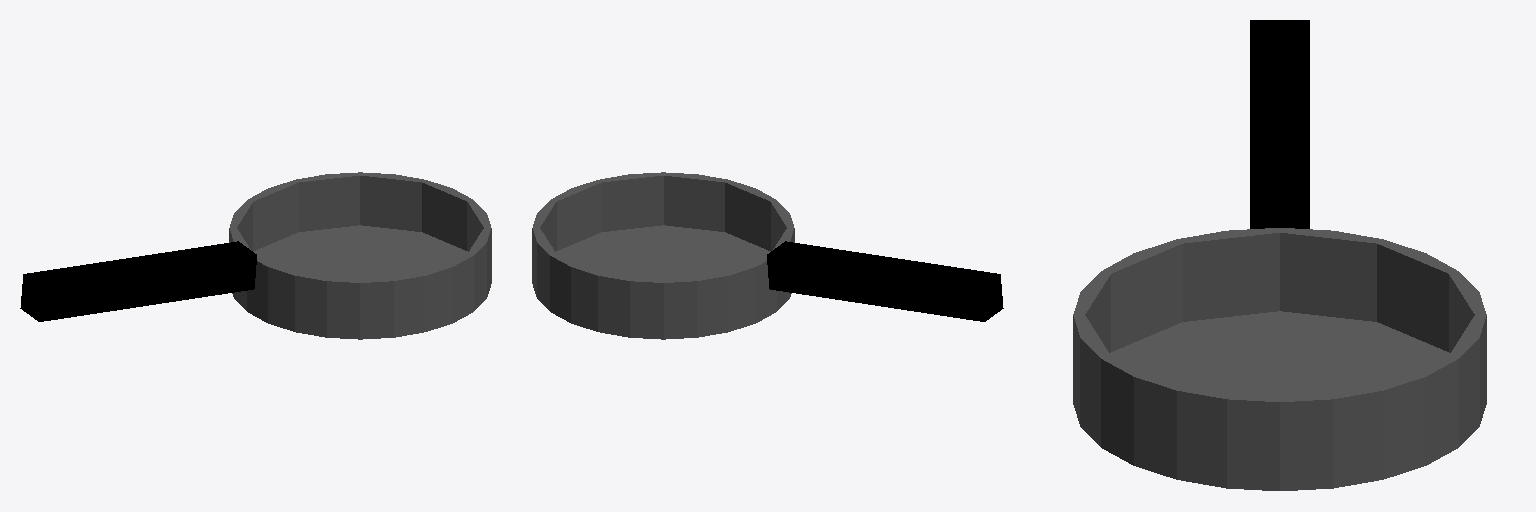
The robot description file, URDF, robot "frying-pan_static":
<?xml version="1.0"?>
<robot name="frying-pan_static"
       xmlns:xi="http://www.w3.org/2001/XInclude"
       >
  <gazebo>
    <static>true</static>
  </gazebo>
  <link name="nil_link">
    <visual>
      <origin xyz="0 0 0" rpy="0 -0 0"/>
      <geometry>
        <mesh filename="model://frying-pan/meshes/nil_link_mesh.dae" scale="1 1 1" />
      </geometry>
    </visual>
    <collision>
      <origin xyz="0 0 0" rpy="0 -0 0"/>
      <geometry>
        <mesh filename="model://frying-pan/meshes/nil_link_mesh.dae" scale="1 1 1" />
      </geometry>
    </collision>
    <inertial>
      <mass value="0.001" />
      <origin xyz="0 0 0" rpy="0 -0 0"/>
      <inertia ixx="1e-03" ixy="0" ixz="0" iyy="1e-03" iyz="0" izz="1e-03"/>
    </inertial>
  </link>
  <gazebo reference="nil_link">
    <mu1>0.9</mu1>
    <mu2>0.9</mu2>
  </gazebo>
</robot>

--- Facts derived from the render (not from the file) ---
The picture shows the robot from 3 angles, left to right: view 1: azimuth 30°, elevation 25°; view 2: azimuth 150°, elevation 25°; view 3: azimuth 270°, elevation 25°; orthographic projection.
Model frying-pan_static with 1 links and 0 joints (none), rooted at nil_link, posed every joint at zero.
Visible links, largest first — view 1: nil_link; view 2: nil_link; view 3: nil_link.
Boxes of the visible links, x1,y1,x2,y2 form: nil_link: [20, 172, 491, 339]; nil_link: [532, 172, 1003, 339]; nil_link: [1073, 20, 1486, 490].
Size in the robot's own frame: 0.4109 by 0.21 by 0.0737 metres.
Meshes: 1 distinct files referenced, 1 mesh visuals loaded (1 Collada DAE).